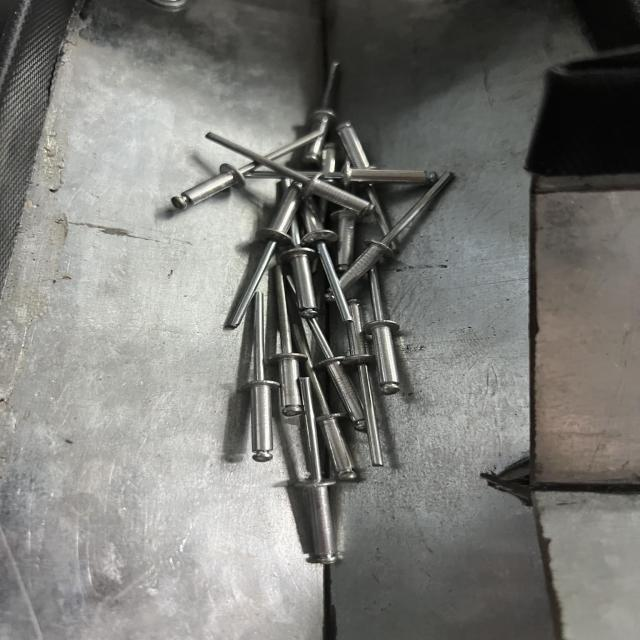rivet: (203, 128, 389, 216), (246, 290, 286, 463)
